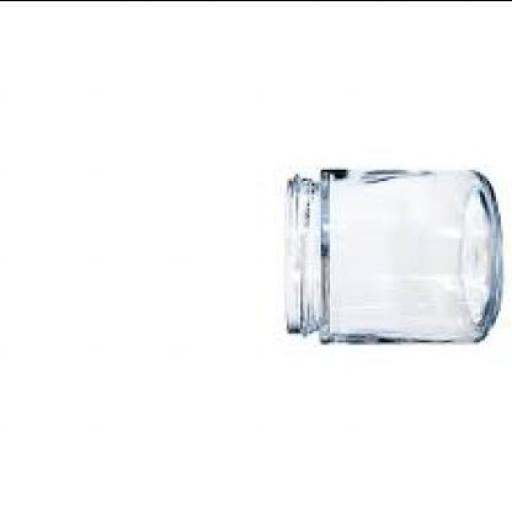glass: (282, 166, 498, 341)
